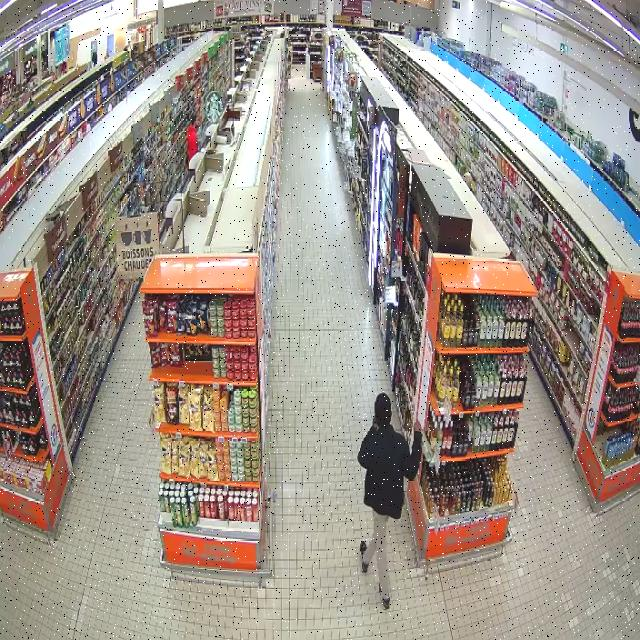article: (421, 429, 434, 462)
hands: (414, 420, 422, 433)
person: (357, 393, 421, 608)
